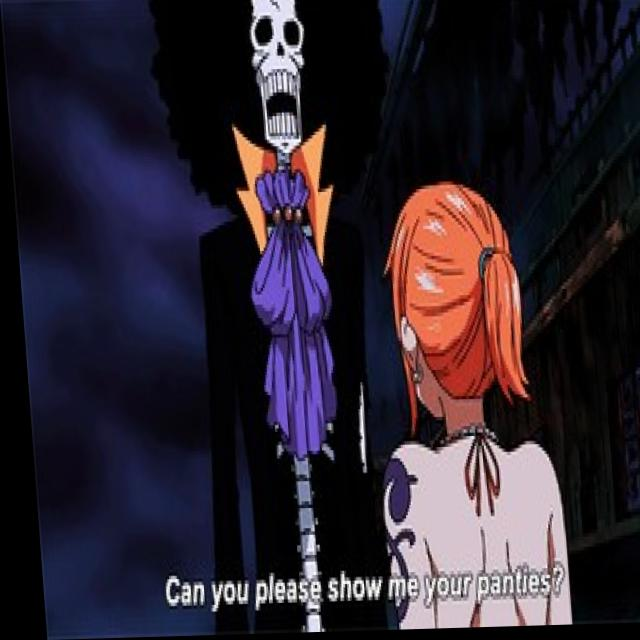Blook: (194, 0, 353, 174)
Nami: (376, 181, 531, 437)
